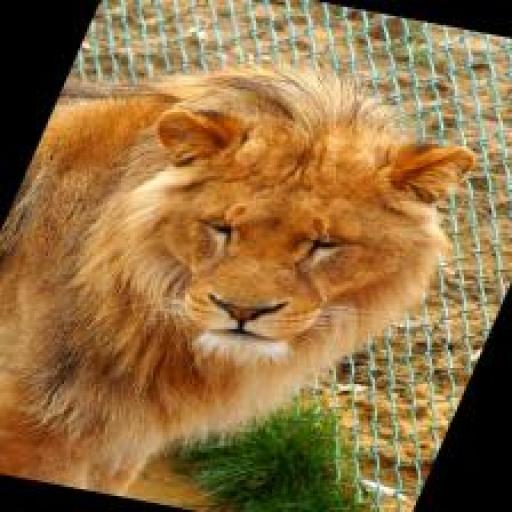lion: (0, 20, 511, 512)
